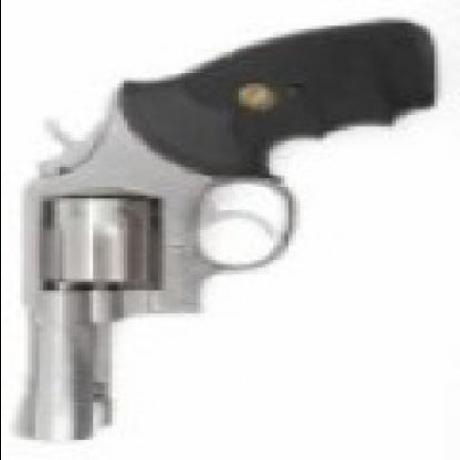weapon: (4, 17, 454, 447)
